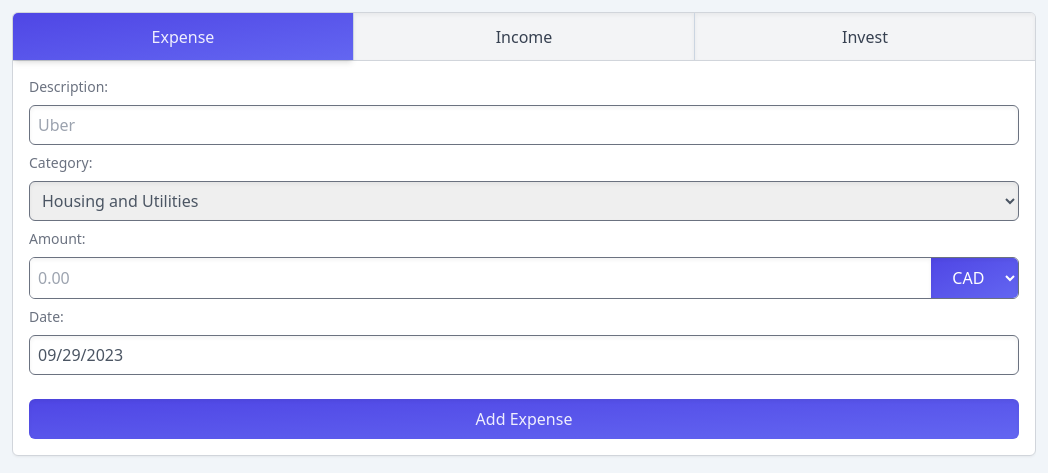
Scenario: CreateTransactionForm › Correctly switches between forms, add expense, add income, add investment
Click the button "Income".
click(524, 36)  # box [353,13,695,60]
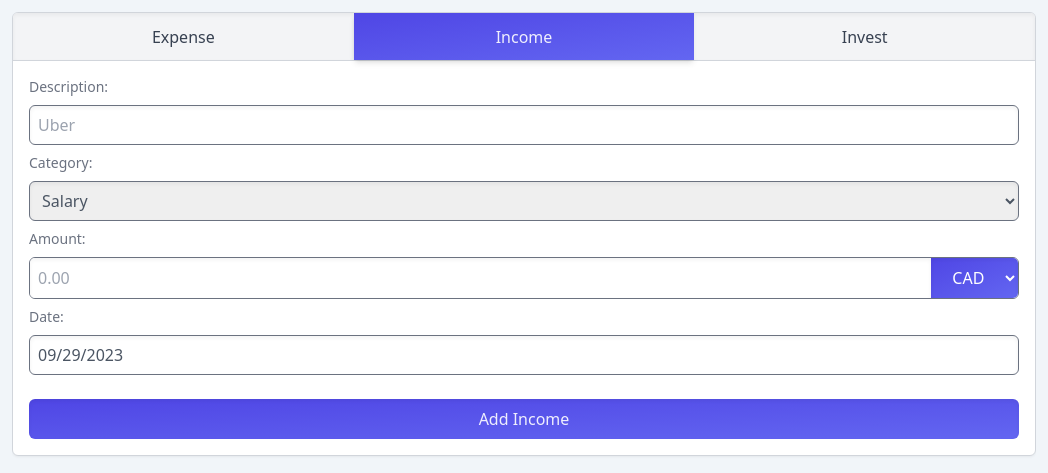
Now the button "Add Income" is shown, box [29,399,1019,439]
Test income button
Click the button "Invest".
click(865, 36)  # box [694,13,1035,60]
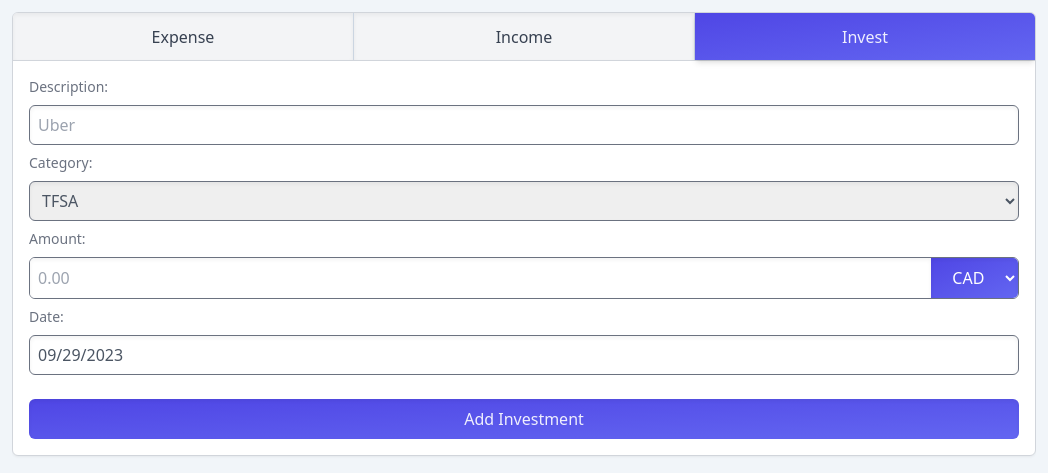
Now the button "Add Investment" is shown, box [29,399,1019,439]
Test expense button
Click the button "Expense".
click(183, 36)  # box [13,13,353,60]
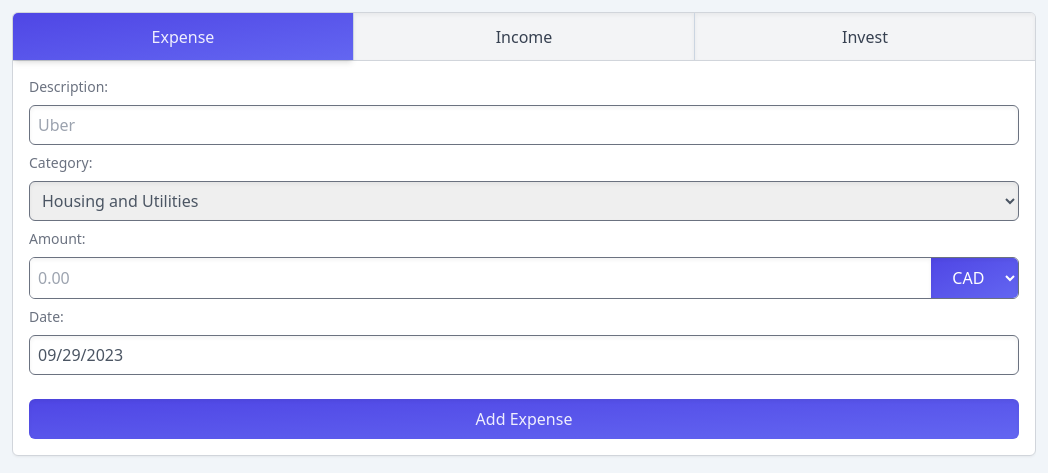
Now the button "Add Expense" is shown, box [29,399,1019,439]
